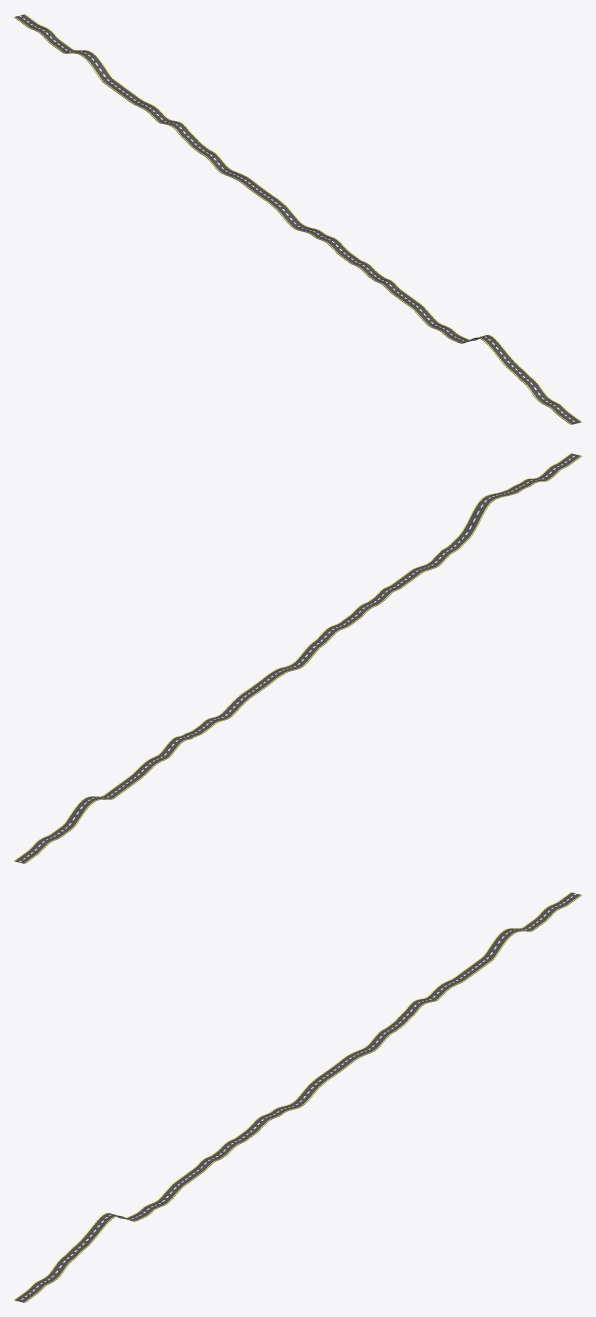
The model's file is godtierplatform2.fbx.
3 views of the same model, one above another, from view 1: azimuth 30°, elevation 25°; view 2: azimuth 150°, elevation 25°; view 3: azimuth 330°, elevation 25° (orthographic).
Parts seen in each view (by area): view 1: Plane.001; view 2: Plane.001; view 3: Plane.001.
Part boxes in pixels (box(x1,y1,x2,y2)): Plane.001: box(14, 14, 581, 424); Plane.001: box(14, 453, 581, 863); Plane.001: box(14, 892, 581, 1302).
Size of the model in its own units: 577 by 1340 by 50000.
Materials: 1 (1 with a texture image).
